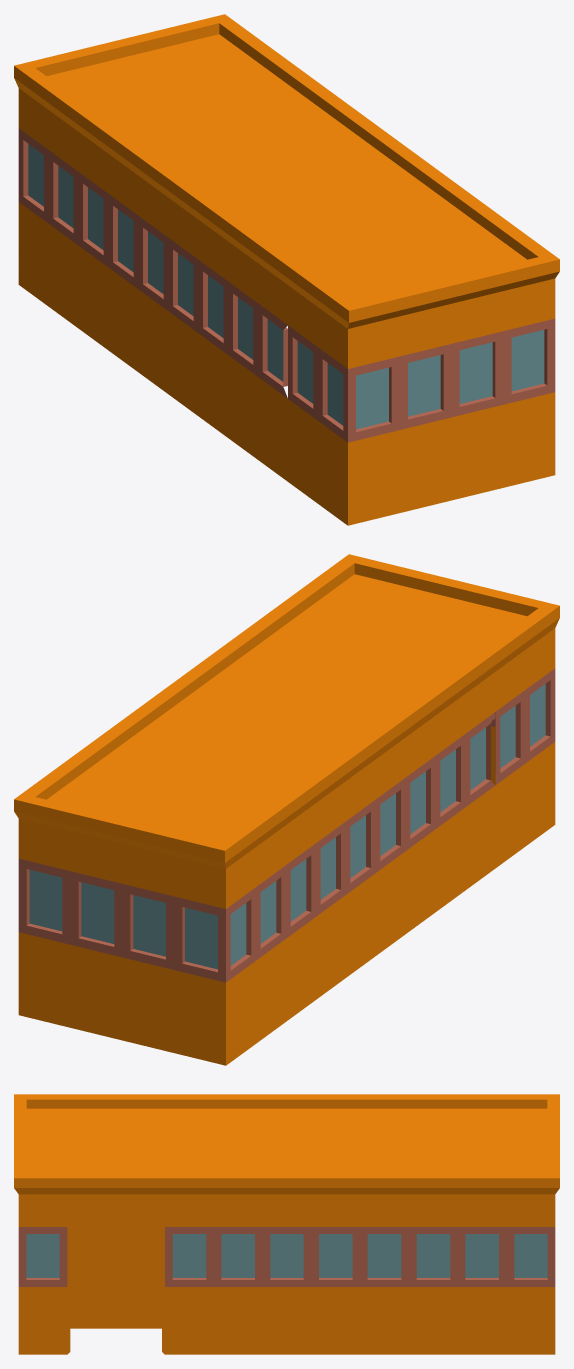
File: amt.fbx
3 renders of one model, top to bottom at view 1: azimuth 30°, elevation 25°; view 2: azimuth 150°, elevation 25°; view 3: azimuth 270°, elevation 25°, orthographic. The views are drawn at different scales.
Visible parts, largest first — view 1: amt2; view 2: amt2; view 3: amt2.
Boxes of the visible parts, x1=… form: amt2: x1=14, y1=14, x2=559, y2=525; amt2: x1=14, y1=554, x2=559, y2=1065; amt2: x1=14, y1=1094, x2=559, y2=1354.
Bounding box in the file's own units: 1298 × 1278 × 3569.
